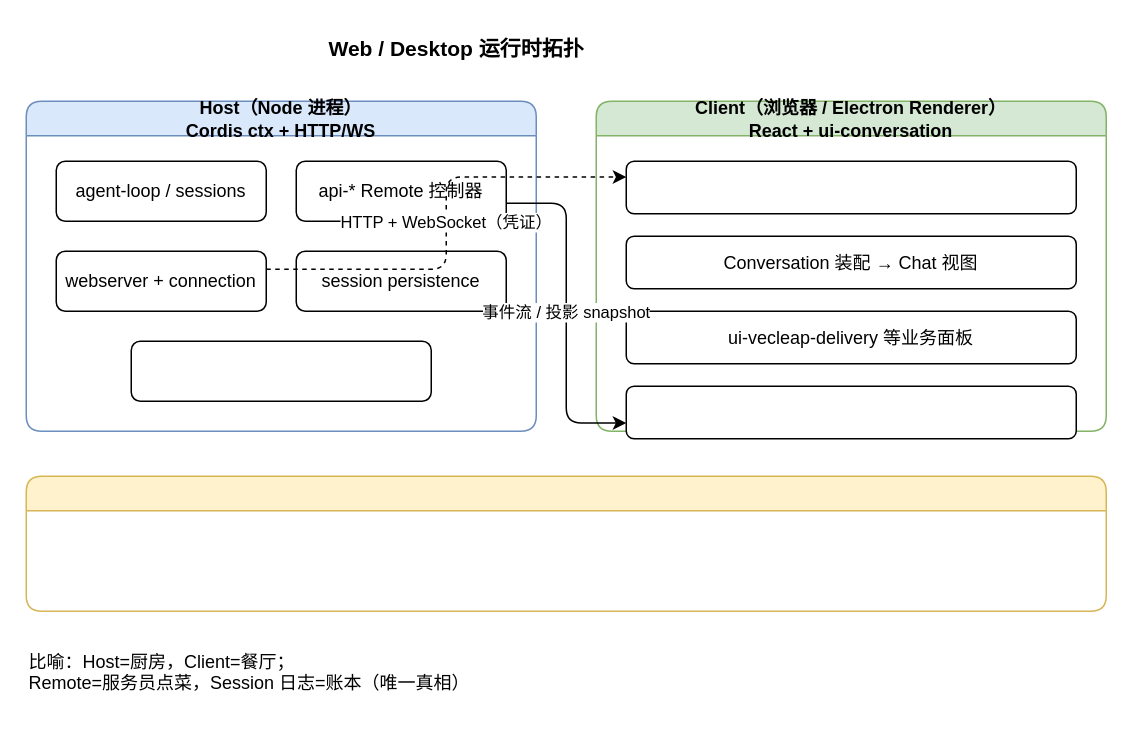
This 1133x741 diagram has some shape labels left out. Here are the shapes that lost their labels. From the top down, the centre of each, then its label:
the point at 850,187: Remote RPC（session.prompt）
the point at 280,370: tools / fs / shell / llm
the point at 850,412: session/event 增量订阅
the point at 565,543: Desktop 额外层 Electron Main + RunAsNode Host dsh-app:// 协议 / 托盘 / IPC
